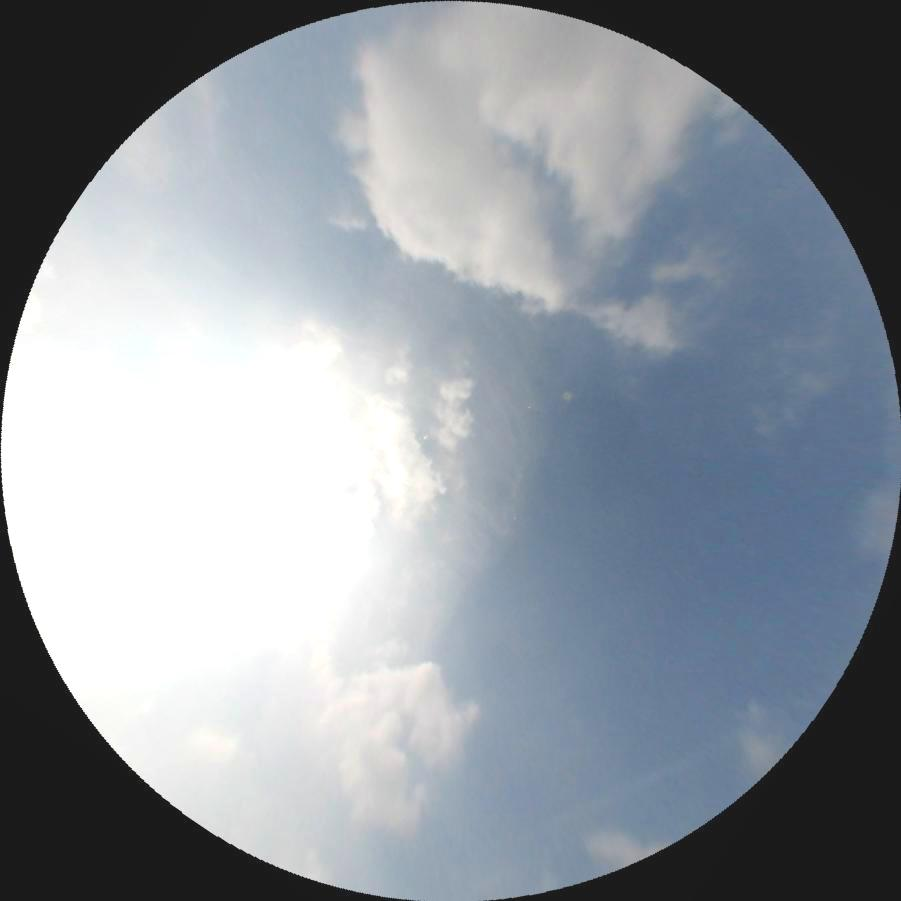sun: (154, 388, 357, 594)
unknow: (475, 737, 724, 854)
